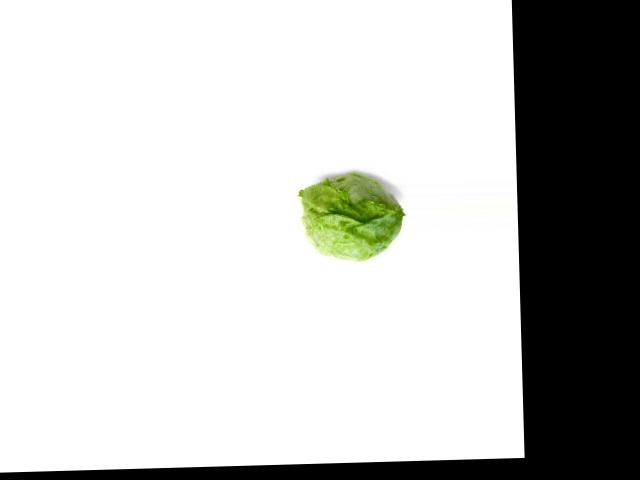lettuce: (299, 166, 404, 269)
